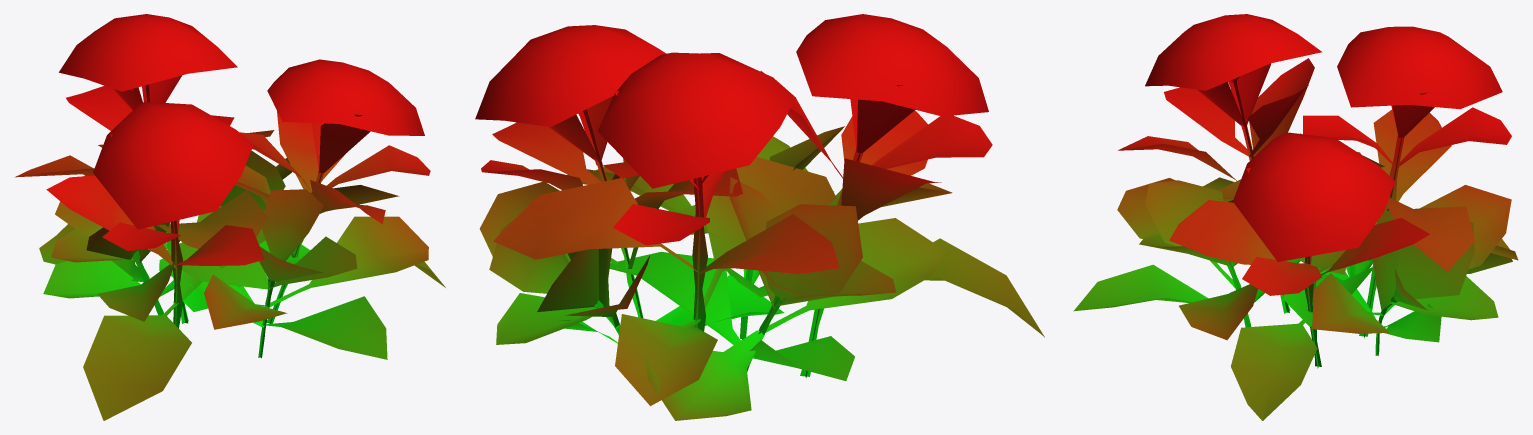
The model's file is Var8_LOD4.fbx.
3 views of the same model, side by side, from view 1: azimuth 30°, elevation 25°; view 2: azimuth 150°, elevation 25°; view 3: azimuth 270°, elevation 25° (orthographic). The views are drawn at different scales.
Parts seen in each view (by area): view 1: _3ywn_Var8_LOD4; view 2: _3ywn_Var8_LOD4; view 3: _3ywn_Var8_LOD4.
Part boxes in pixels (x1=…): _3ywn_Var8_LOD4: x1=15, y1=14, x2=445, y2=420; _3ywn_Var8_LOD4: x1=475, y1=14, x2=1044, y2=420; _3ywn_Var8_LOD4: x1=1073, y1=14, x2=1518, y2=420.
Size of the model in its own units: 40.66 by 28.76 by 39.45.
